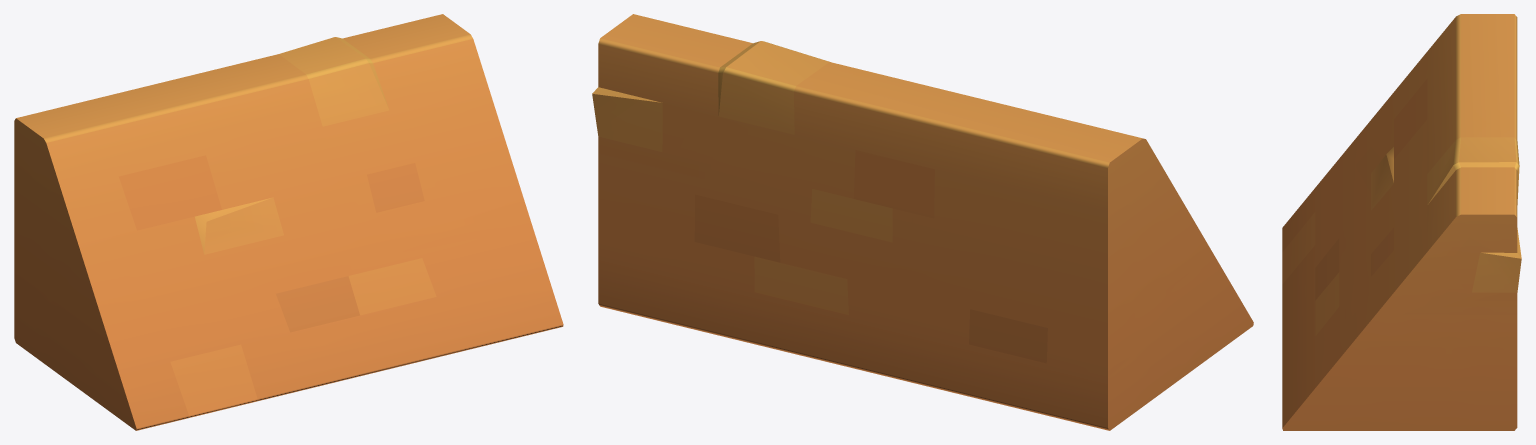
File: pyramid_wall_4m.fbx
3 views of the same model, side by side, from view 1: azimuth 30°, elevation 25°; view 2: azimuth 150°, elevation 25°; view 3: azimuth 270°, elevation 25° (orthographic). The views are drawn at different scales.
Parts seen in each view (by area): view 1: pyramid_wall_4m; view 2: pyramid_wall_4m; view 3: pyramid_wall_4m.
Boxes of the visible parts, bbox=[...] form: pyramid_wall_4m: bbox=[14, 14, 563, 430]; pyramid_wall_4m: bbox=[592, 14, 1253, 430]; pyramid_wall_4m: bbox=[1282, 14, 1521, 430].
Size of the model in its own units: 806 by 407 by 404.
